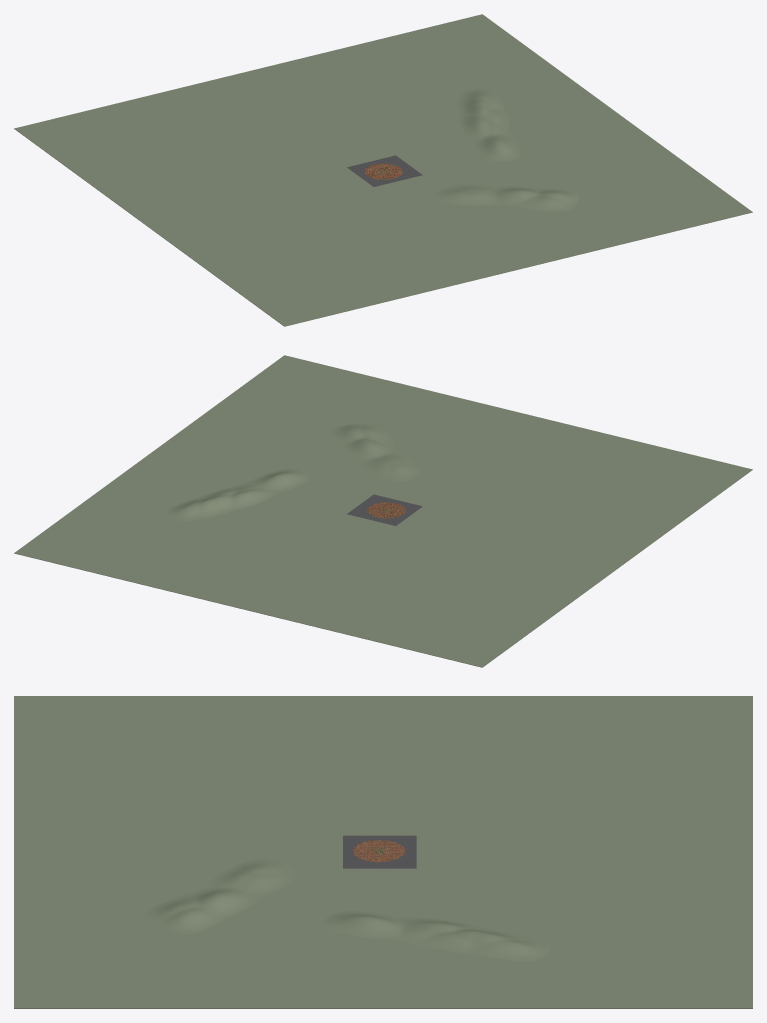
The model's file is roma.glb.
The picture shows the model from 3 angles, top to bottom: view 1: azimuth 30°, elevation 25°; view 2: azimuth 150°, elevation 25°; view 3: azimuth 270°, elevation 25°; orthographic projection. The views are drawn at different scales.
Parts seen in each view (by area): view 1: Campagna, MontiTiburtini, ColliAlbani, Suolo; view 2: Campagna, MontiTiburtini, ColliAlbani, Suolo; view 3: Campagna, MontiTiburtini, ColliAlbani, Suolo, Isolati_Coppi.
Part boxes in pixels (<box>): Campagna: <box>14,14,752,326</box>; MontiTiburtini: <box>457,89,520,161</box>; ColliAlbani: <box>434,184,579,211</box>; Suolo: <box>347,155,422,186</box>; Campagna: <box>14,355,752,667</box>; MontiTiburtini: <box>165,468,310,521</box>; ColliAlbani: <box>330,423,420,481</box>; Suolo: <box>347,494,422,525</box>; Campagna: <box>14,696,752,1008</box>; MontiTiburtini: <box>323,910,549,961</box>; ColliAlbani: <box>144,858,295,934</box>; Suolo: <box>343,835,416,868</box>; Isolati_Coppi: <box>353,840,404,861</box>.
Bounding box in the file's own units: 80000 × 942 × 80000.
Materials: 18 (13 with a texture image).
